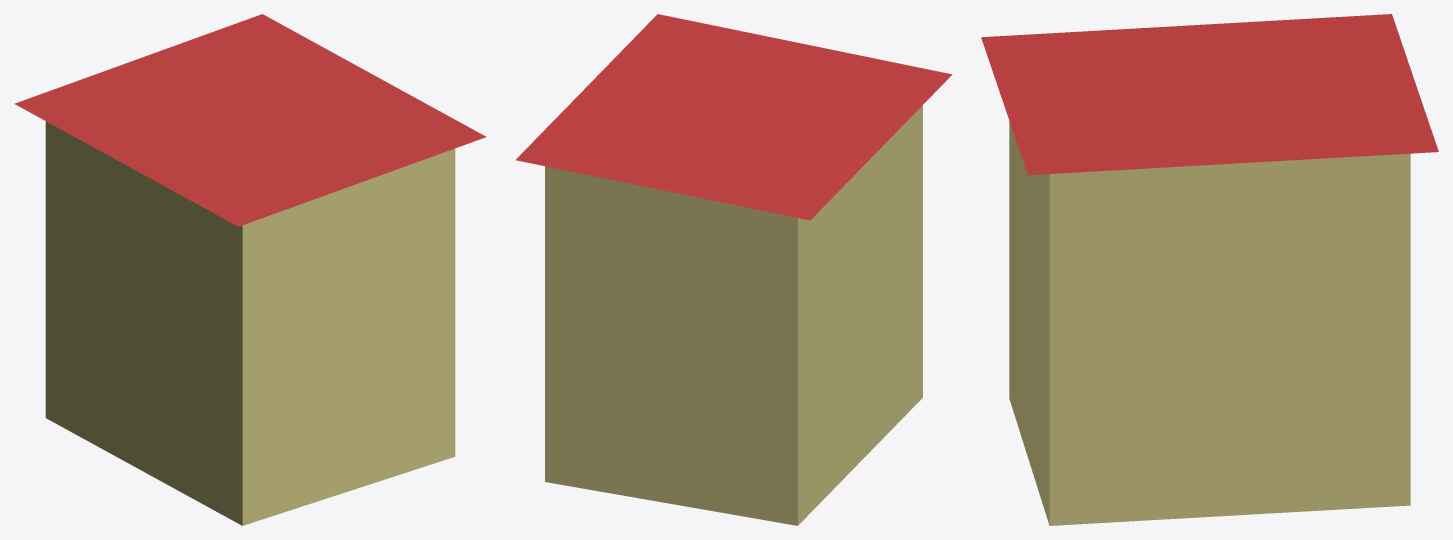
3 renders of one model, left to right at view 1: azimuth 30°, elevation 25°; view 2: azimuth 150°, elevation 25°; view 3: azimuth 270°, elevation 25°, orthographic. The views are drawn at different scales.
Size of the model in its own units: 8.03 by 9.06 by 7.92.
